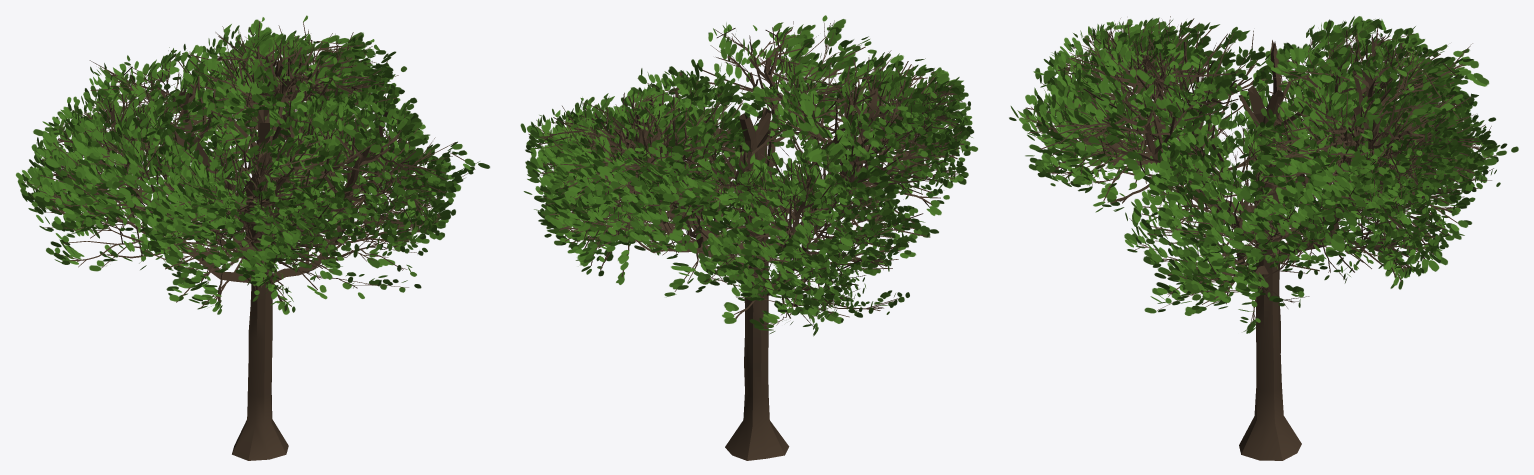
3 renders of one model, left to right at view 1: azimuth 30°, elevation 25°; view 2: azimuth 150°, elevation 25°; view 3: azimuth 270°, elevation 25°, orthographic. The views are drawn at different scales.
Parts seen in each view (by area): view 1: oak 01.001_trunk_Mat.001_0.107; view 2: oak 01.001_trunk_Mat.001_0.107; view 3: oak 01.001_trunk_Mat.001_0.107.
Boxes of the visible parts, <box> form: oak 01.001_trunk_Mat.001_0.107: <box>16,15,489,460</box>; oak 01.001_trunk_Mat.001_0.107: <box>520,15,977,460</box>; oak 01.001_trunk_Mat.001_0.107: <box>1009,16,1518,460</box>.
Size of the model in its own units: 4.66 by 4.21 by 5.16.
2 materials, 1 textured.
